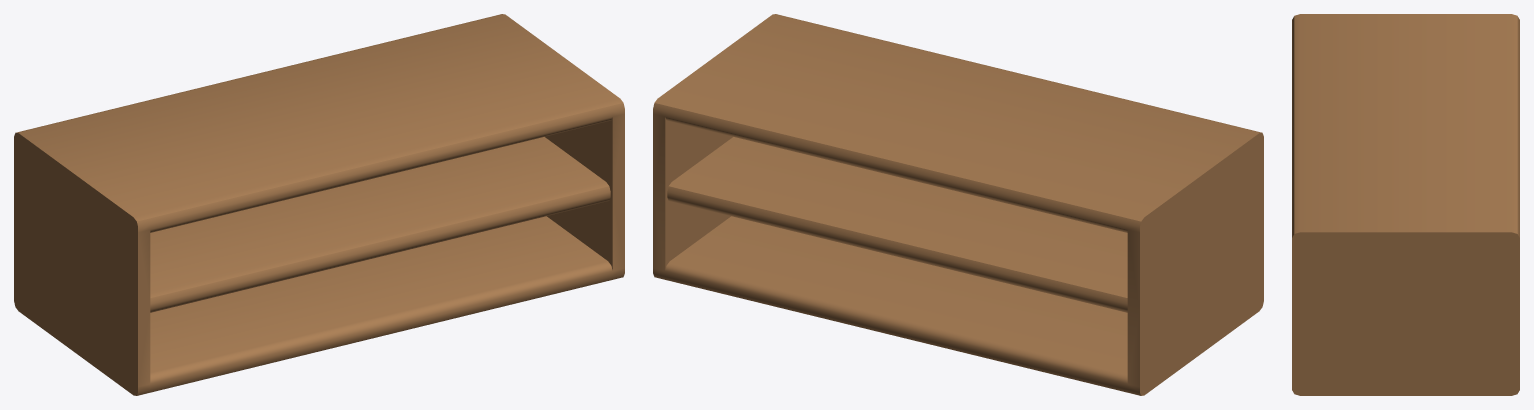
File: shelves-transformed.glb
The picture shows the model from 3 angles, left to right: view 1: azimuth 30°, elevation 25°; view 2: azimuth 150°, elevation 25°; view 3: azimuth 270°, elevation 25°; orthographic projection. The views are drawn at different scales.
Visible parts, largest first — view 1: Environment_Cabinet_Shelves; view 2: Environment_Cabinet_Shelves; view 3: Environment_Cabinet_Shelves.
Part boxes in pixels (x1=…): Environment_Cabinet_Shelves: x1=14, y1=14, x2=624, y2=395; Environment_Cabinet_Shelves: x1=653, y1=14, x2=1263, y2=395; Environment_Cabinet_Shelves: x1=1292, y1=14, x2=1519, y2=395.
Bounding box in the file's own units: 4 × 1.4 × 1.77.
Materials: 1 (1 with a texture image).
